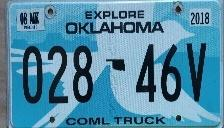0: (21, 45, 43, 104)
2: (45, 44, 71, 104)
4: (134, 43, 159, 104)
6: (159, 42, 184, 103)
8: (71, 43, 95, 104)
V: (184, 42, 209, 103)
